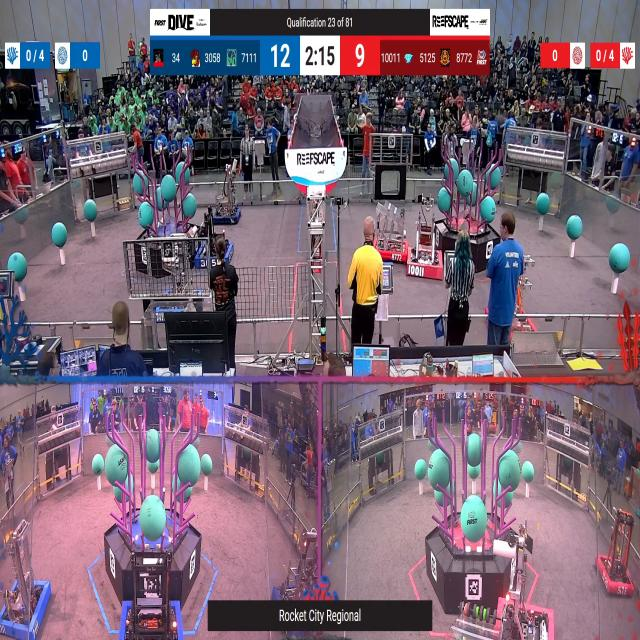scoreboard: (150, 34, 490, 76)
